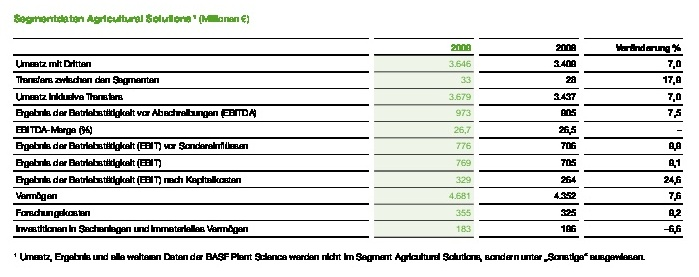table: (0, 0, 699, 277)
